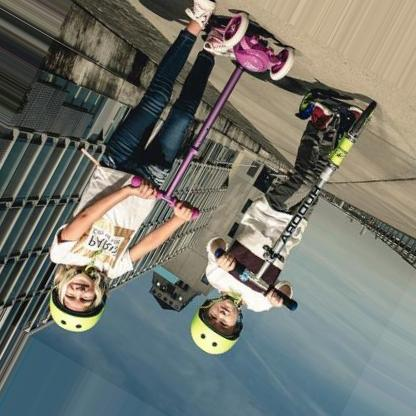scooter: (214, 85, 377, 312), (131, 14, 294, 220)
with helmet: (47, 269, 106, 335), (189, 296, 244, 357)
